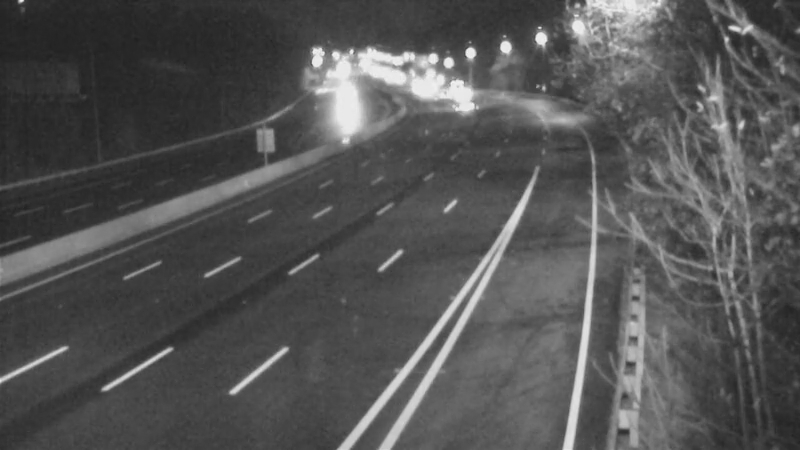vehicle: (434, 61, 484, 111), (417, 70, 467, 120), (440, 71, 490, 121), (438, 81, 488, 131), (318, 69, 368, 119)
